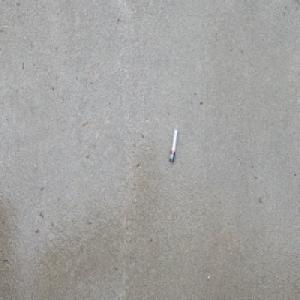Battery: (170, 128, 178, 163)
